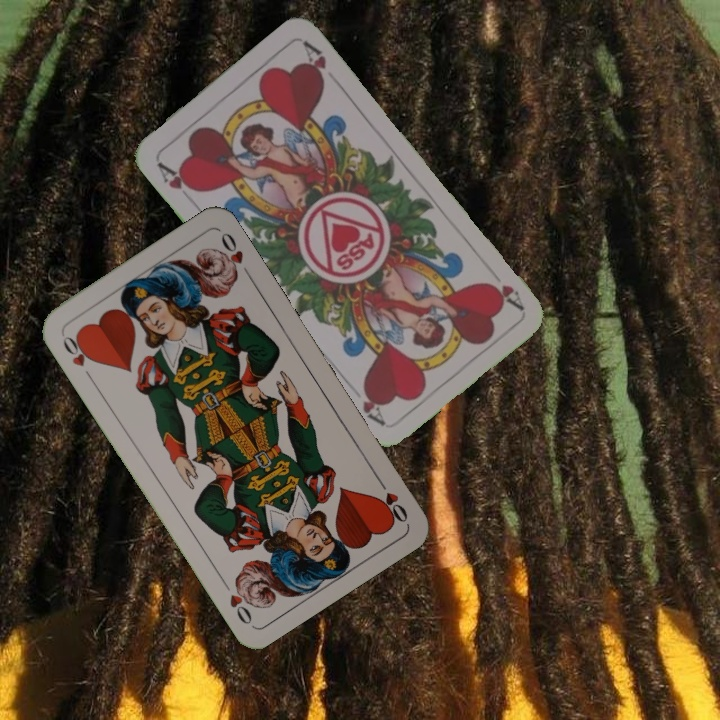HA: (153, 157, 201, 196), (482, 278, 526, 312)
HO: (58, 330, 97, 383), (372, 473, 411, 526)
